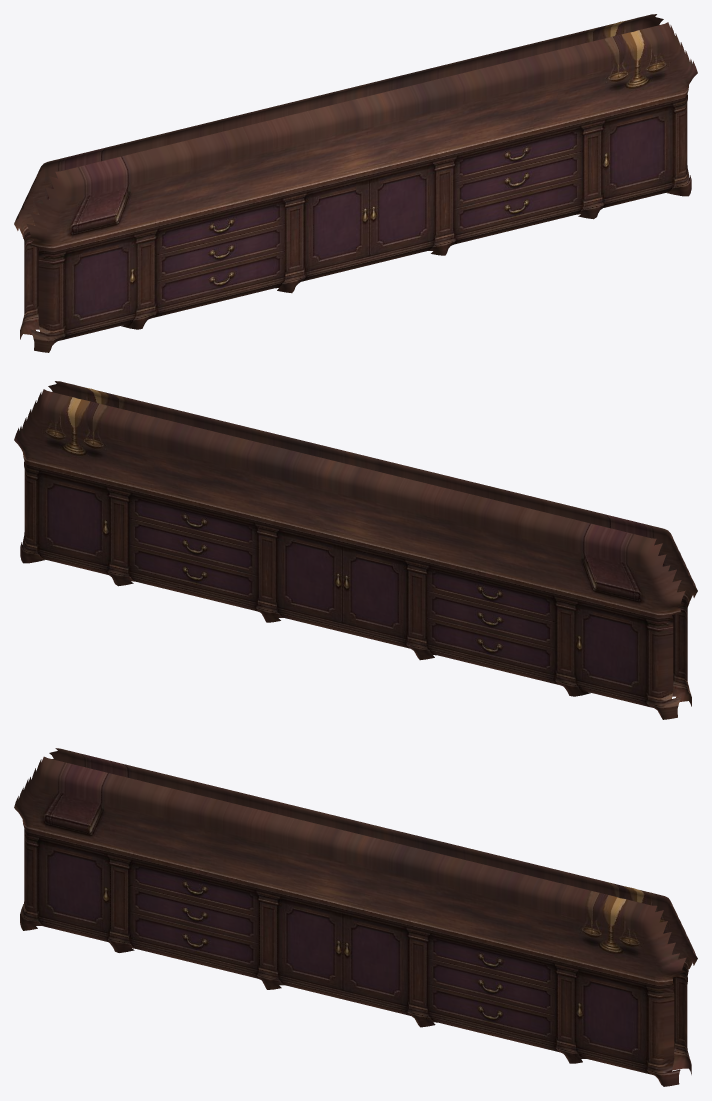
Rendered from v4-arcane-emporium-scatter-long-counter.glb.
The picture shows the model from 3 angles, top to bottom: view 1: azimuth 30°, elevation 25°; view 2: azimuth 150°, elevation 25°; view 3: azimuth 330°, elevation 25°; orthographic projection.
Visible parts, largest first — view 1: v4-arcane-emporium-scatter-long-counter; view 2: v4-arcane-emporium-scatter-long-counter; view 3: v4-arcane-emporium-scatter-long-counter.
Part boxes in pixels (x1,y1,x2,y2): v4-arcane-emporium-scatter-long-counter: (14, 14, 697, 352); v4-arcane-emporium-scatter-long-counter: (14, 381, 697, 719); v4-arcane-emporium-scatter-long-counter: (14, 748, 697, 1086).
Bounding box in the file's own units: 3.48 × 0.8605 × 0.24.
Materials: 1 (1 with a texture image).
